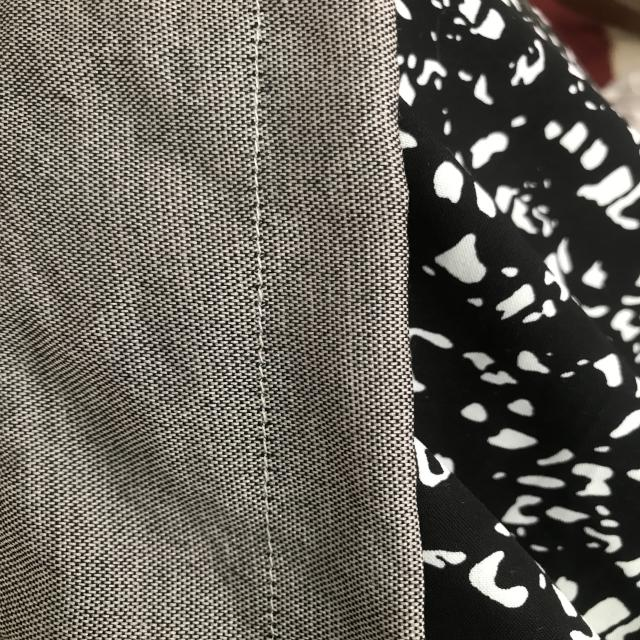good: (251, 215, 276, 469)
